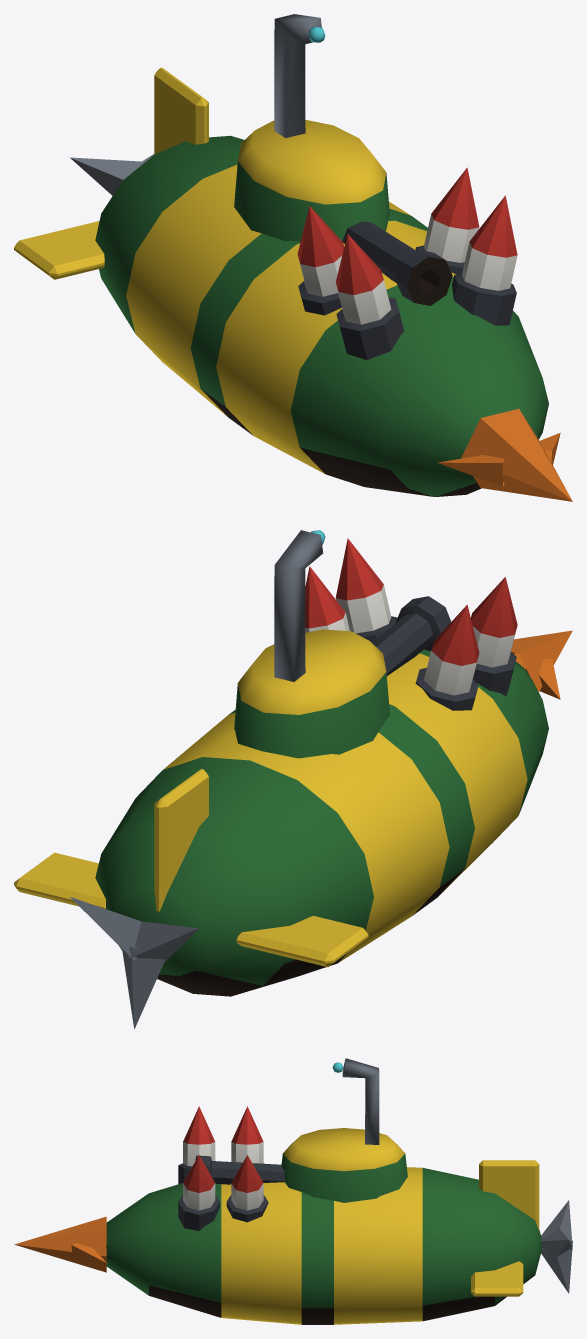
3 views of the same model, one above another, from view 1: azimuth 30°, elevation 25°; view 2: azimuth 150°, elevation 25°; view 3: azimuth 270°, elevation 25° (orthographic). The views are drawn at different scales.
Visible parts, largest first — view 1: submarino_0_base, submarino_1_torreta; view 2: submarino_0_base, submarino_1_torreta; view 3: submarino_0_base, submarino_1_torreta.
Boxes of the visible parts, x1,y1,x2,y2 form: submarino_0_base: [14, 67, 572, 501]; submarino_1_torreta: [234, 14, 452, 305]; submarino_0_base: [14, 538, 572, 1029]; submarino_1_torreta: [234, 530, 451, 758]; submarino_0_base: [14, 1106, 572, 1324]; submarino_1_torreta: [195, 1058, 407, 1202].
Size of the model in its own units: 0.58 by 0.6953 by 1.39.
